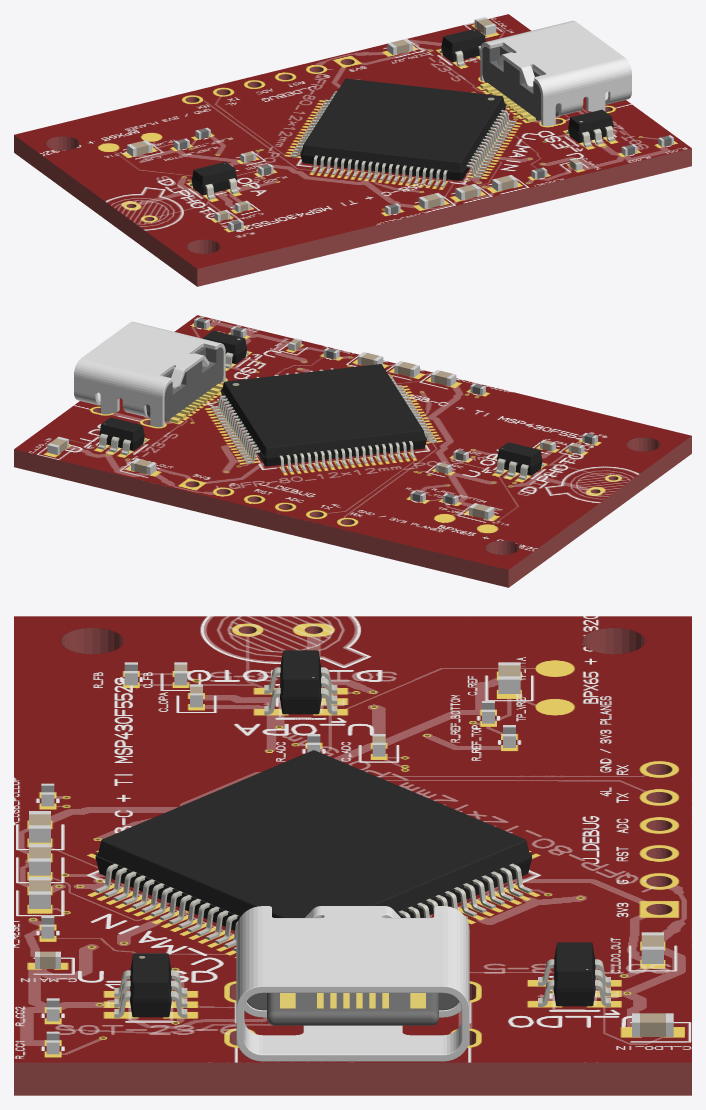
3 views of the same model, one above another, from view 1: azimuth 30°, elevation 25°; view 2: azimuth 150°, elevation 25°; view 3: azimuth 270°, elevation 25° (orthographic). The views are drawn at different scales.
Parts seen in each view (by area): view 1: Box0, U_MAIN, J1, U_ESD, U_OPA, U_LDO; view 2: Box0, U_MAIN, J1, U_LDO, U_OPA, U_ESD; view 3: Box0, U_MAIN, J1, U_ESD, U_OPA, U_LDO, C_LDO_IN, C_LDO_OUT, C_REF.
Part boxes in pixels (x1,y1,x2,y2): Box0: [14, 14, 691, 286]; U_MAIN: [290, 78, 516, 187]; J1: [480, 20, 631, 126]; U_ESD: [566, 109, 615, 147]; U_OPA: [190, 162, 238, 199]; U_LDO: [439, 28, 485, 66]; Box0: [14, 315, 691, 587]; U_MAIN: [210, 364, 436, 472]; J1: [74, 321, 225, 427]; U_LDO: [97, 417, 146, 455]; U_OPA: [495, 442, 544, 480]; U_ESD: [203, 330, 248, 368]; Box0: [14, 616, 691, 1095]; U_MAIN: [95, 750, 532, 951]; J1: [236, 906, 469, 1061]; U_ESD: [114, 953, 187, 1017]; U_OPA: [264, 650, 337, 714]; U_LDO: [538, 942, 610, 1006]; C_LDO_IN: [632, 1013, 673, 1036]; C_LDO_OUT: [641, 932, 663, 963]; C_REF: [498, 662, 520, 693].
Bounding box in the file's own units: 40.54 × 4.65 × 26.
Materials: 13 (2 with a texture image).
